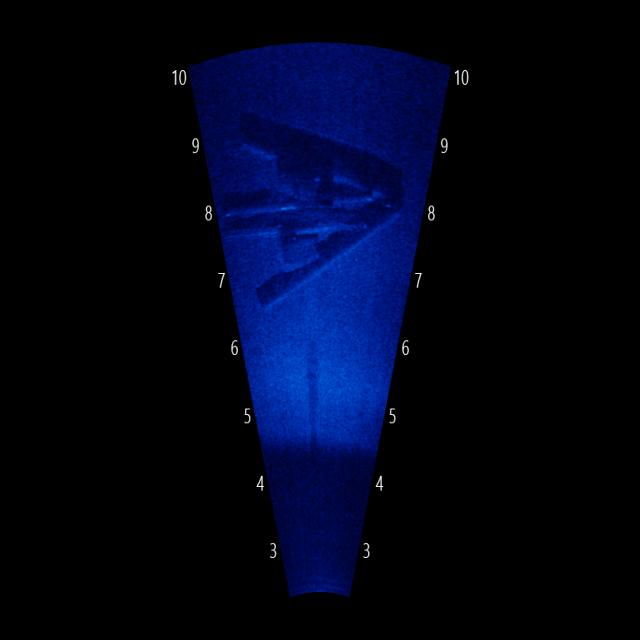triangle: (226, 112, 408, 302)
